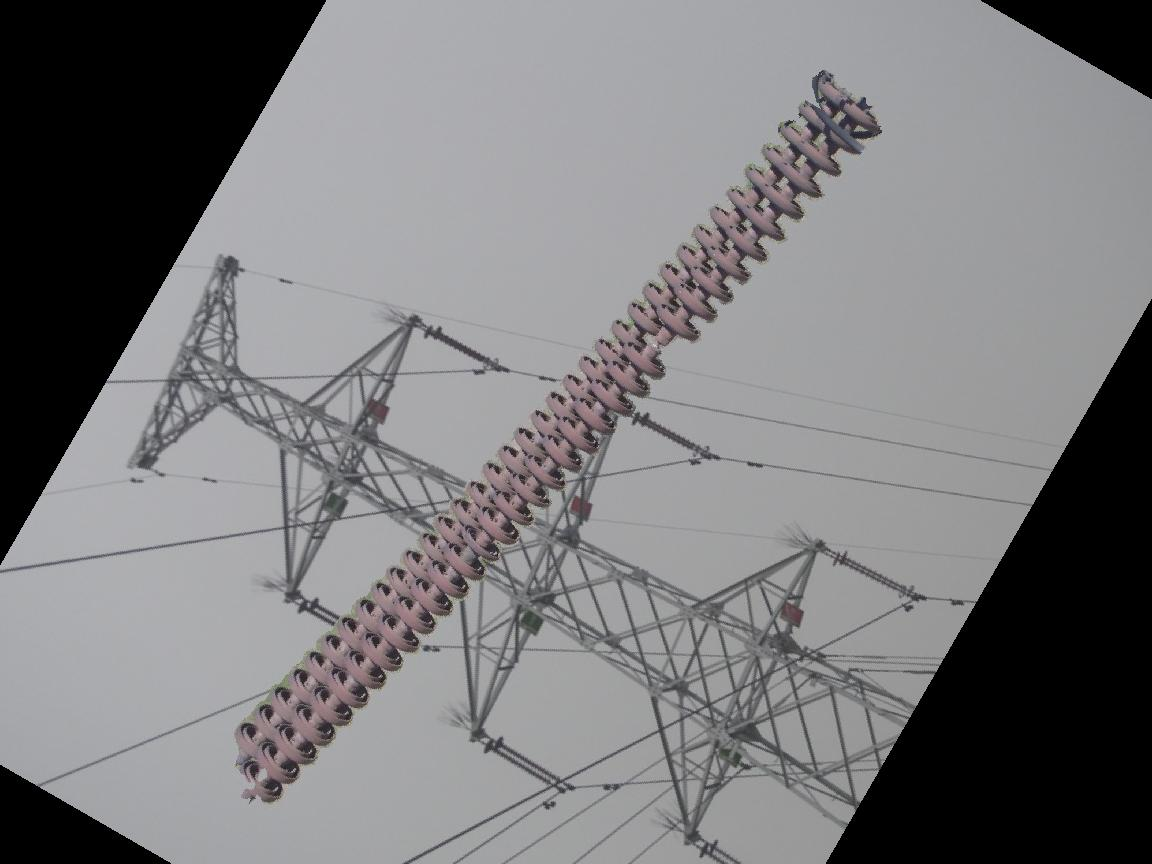insulator: (230, 69, 885, 811), (483, 732, 560, 792), (835, 550, 921, 601), (634, 408, 705, 455), (428, 327, 493, 370)
insulator_stringdrop: (623, 304, 703, 384)
